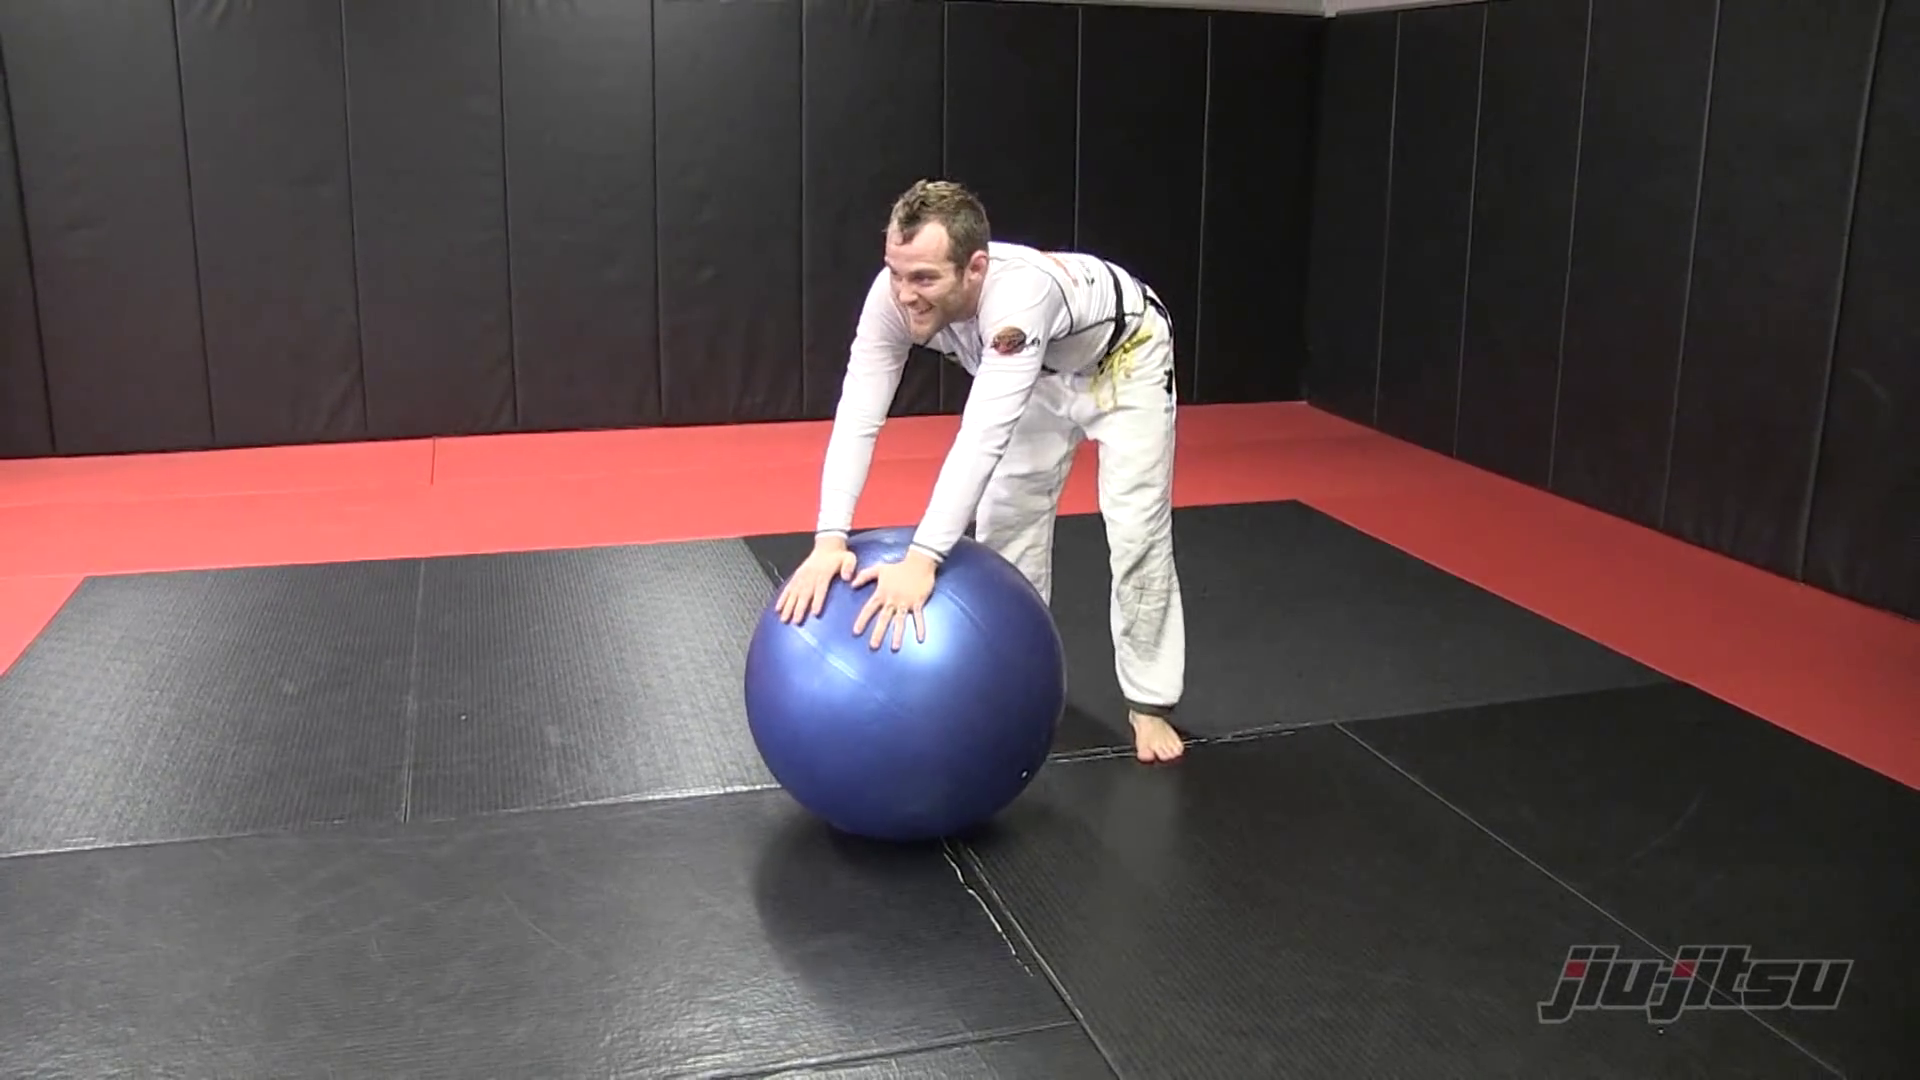yogaball: (733, 531, 1087, 857)
